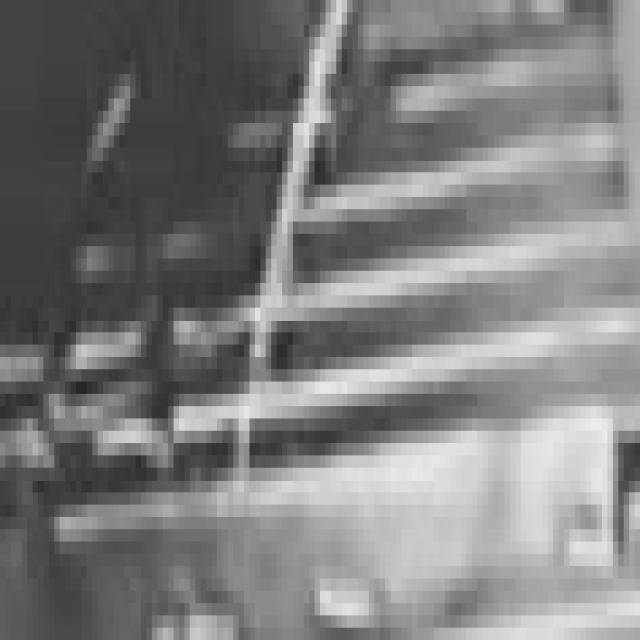stick: (198, 5, 374, 427)
